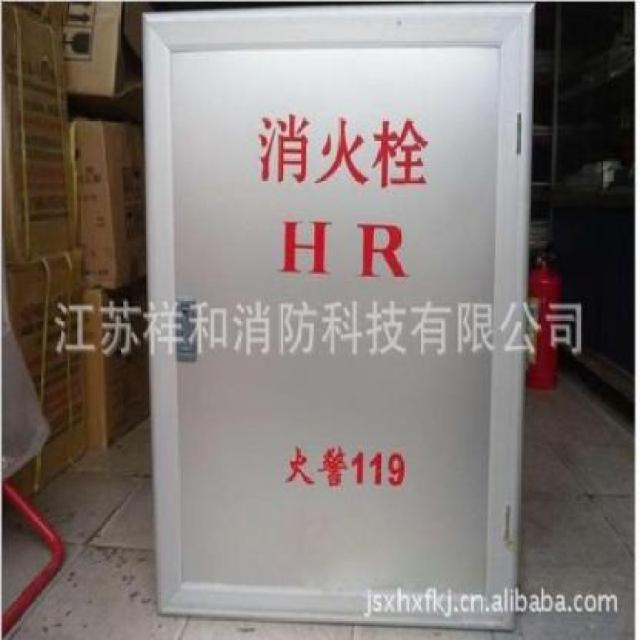firehydrant: (139, 0, 538, 635)
